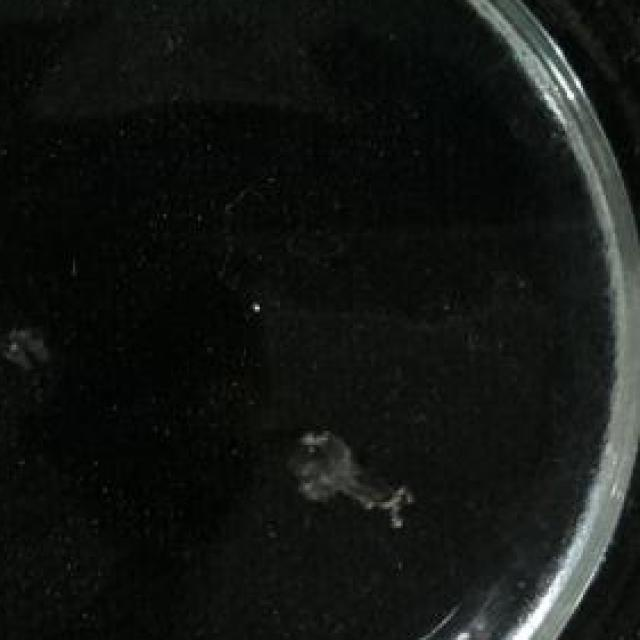Microplastic: (292, 416, 424, 526)
